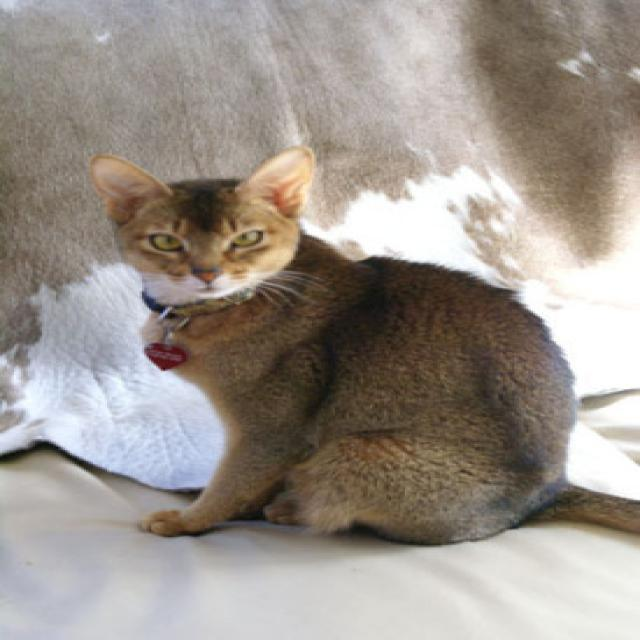Abyssinian: (86, 142, 314, 297)
